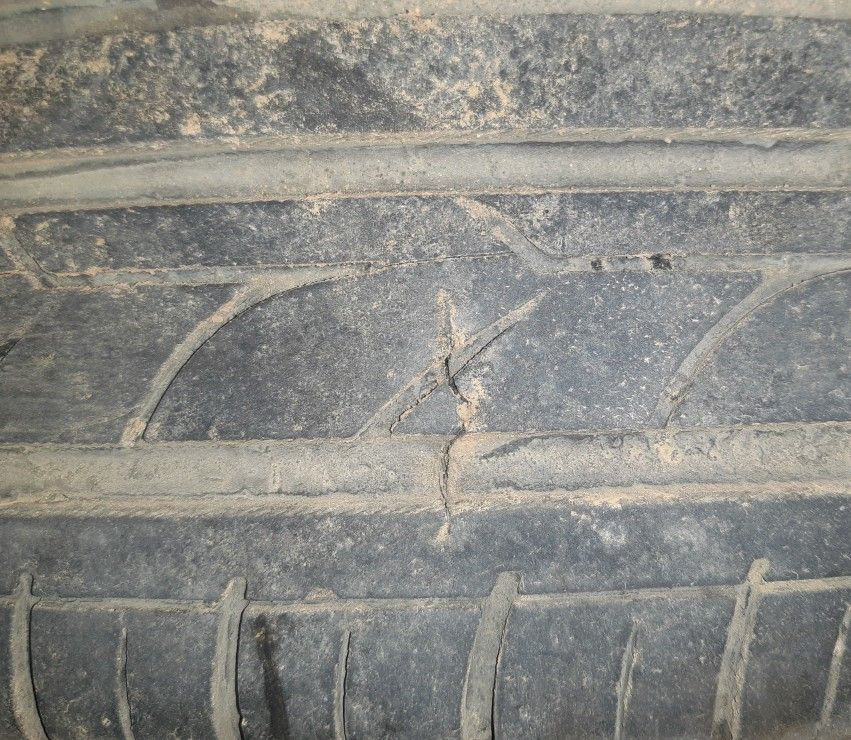tr: (439, 315, 475, 507)
